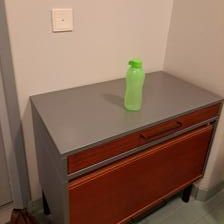bottle: (123, 59, 146, 110)
